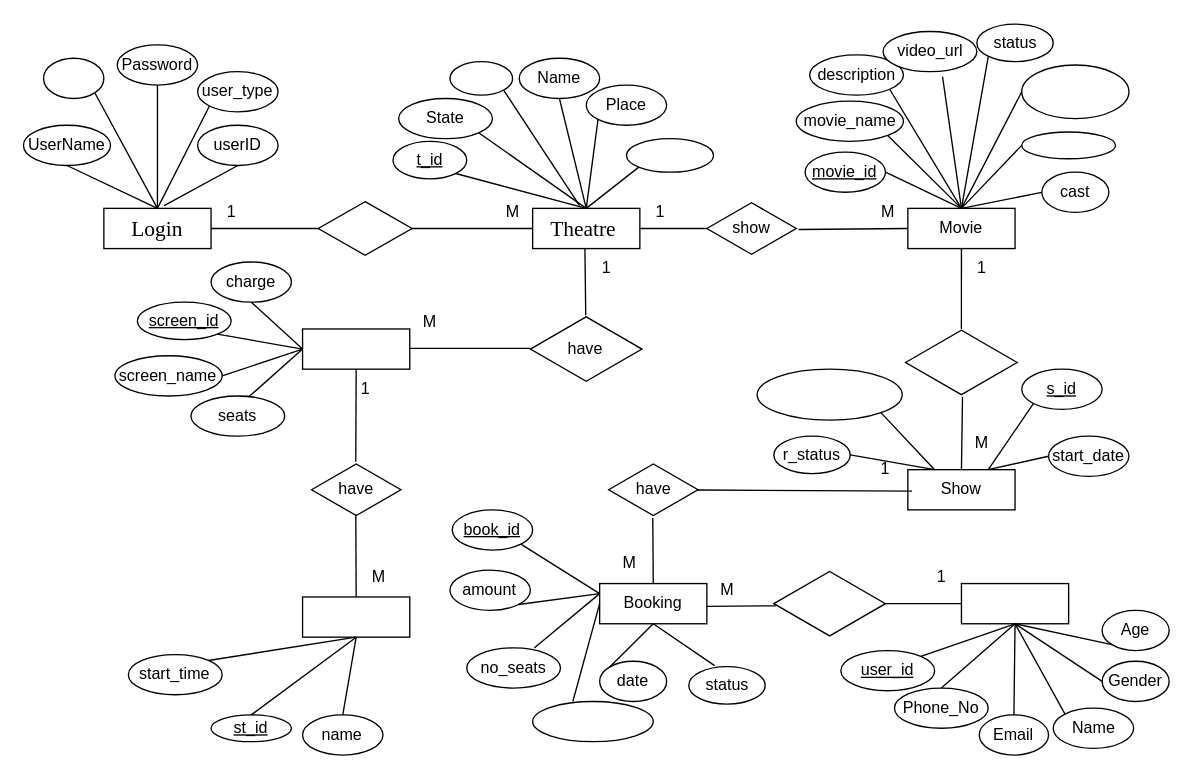
Some shapes in this 1193 by 779 pixel diagram are drawn without their labels. The centre of each missing label's shape, as x and y in pixels:
add: the point at 364,227
Address: the point at 669,154
associate: the point at 960,362
ID: the point at 73,77
image: the point at 1068,145
Make: the point at 829,603
Pin: the point at 481,77
release_date: the point at 1074,91
Screen: the point at 355,348
Show Time: the point at 355,616
status(Availability): the point at 829,394
ticket_date: the point at 592,721
User: the point at 1014,603
